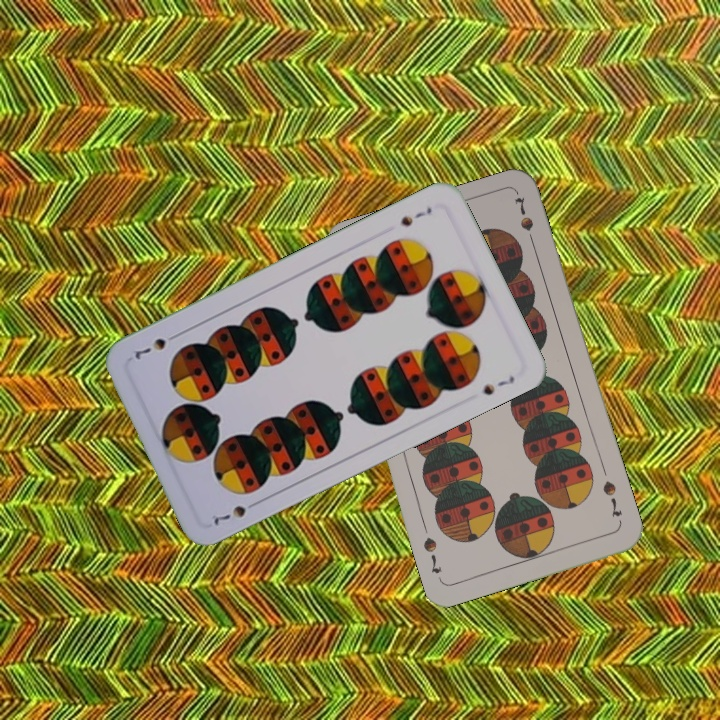S7: (208, 496, 262, 528), (598, 477, 625, 520), (396, 203, 435, 229)
